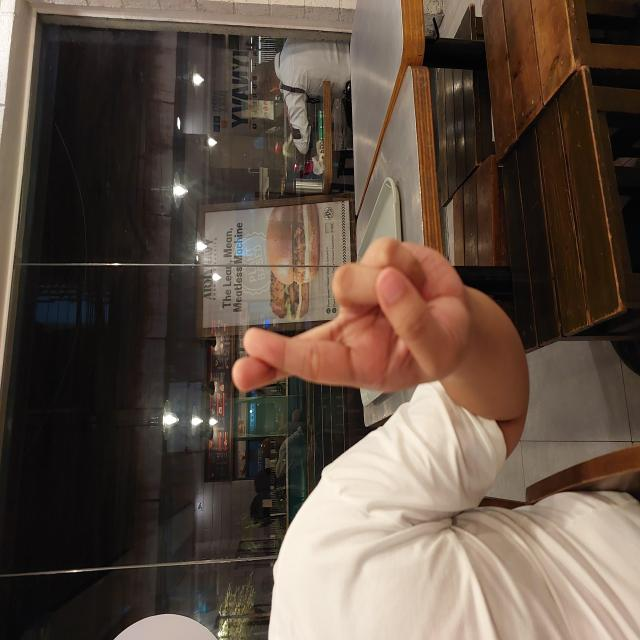R: (248, 230, 402, 470)
